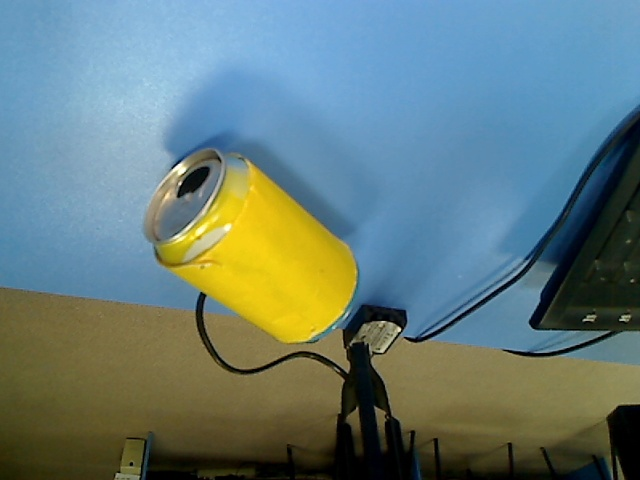can: (138, 144, 363, 349)
